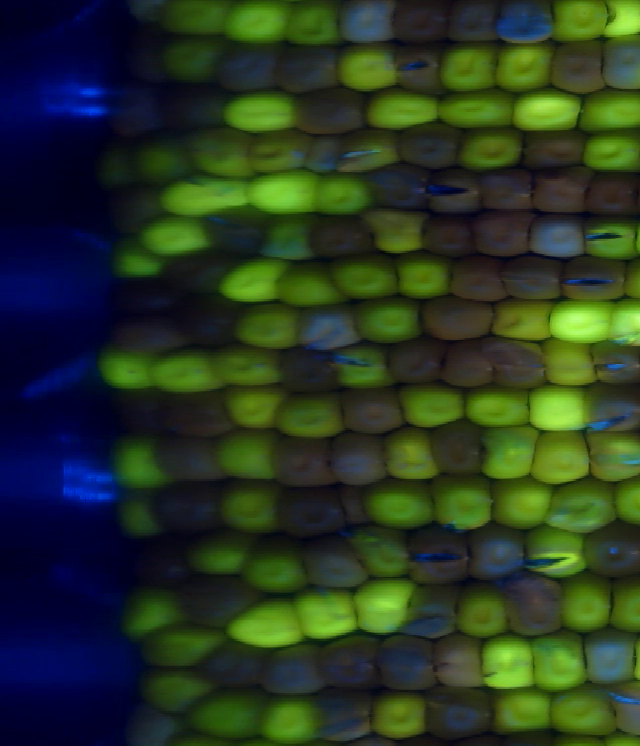fluorescent: (226, 596, 308, 647), (136, 663, 221, 712), (362, 479, 439, 531), (528, 630, 592, 691), (292, 587, 367, 639), (433, 474, 498, 533), (546, 478, 617, 532), (345, 523, 413, 579), (184, 689, 266, 735), (475, 633, 542, 689), (219, 479, 284, 536), (190, 126, 258, 180), (351, 580, 414, 638), (550, 685, 623, 735), (347, 296, 427, 341), (328, 253, 403, 301), (247, 534, 308, 593), (215, 428, 281, 482), (557, 573, 613, 636), (363, 85, 443, 129), (523, 523, 590, 575), (218, 253, 285, 305), (232, 302, 307, 348), (394, 382, 471, 426), (457, 122, 526, 171), (489, 475, 554, 527), (138, 625, 229, 662), (245, 171, 323, 214), (478, 424, 539, 478), (488, 685, 558, 732), (392, 247, 454, 300), (277, 260, 346, 307), (138, 216, 219, 256), (160, 178, 247, 215), (120, 589, 187, 637), (437, 89, 517, 129), (337, 41, 401, 91), (276, 394, 350, 437), (546, 296, 615, 342), (149, 349, 222, 392), (457, 583, 514, 638), (222, 92, 296, 134), (337, 128, 406, 173), (438, 44, 502, 92), (114, 433, 166, 491), (531, 431, 587, 484), (513, 89, 585, 130), (249, 127, 310, 175), (379, 431, 438, 480), (223, 1, 289, 44), (368, 208, 428, 255), (580, 127, 640, 174), (491, 295, 555, 339), (496, 43, 557, 89), (465, 385, 533, 426), (579, 212, 637, 260), (525, 386, 588, 430), (222, 381, 282, 427), (157, 1, 233, 37), (283, 1, 340, 48), (333, 343, 391, 389), (183, 533, 251, 572), (215, 345, 283, 384), (541, 339, 598, 385), (315, 170, 373, 215), (371, 691, 430, 734), (162, 40, 221, 83), (135, 143, 198, 183), (99, 345, 157, 388), (264, 696, 319, 741), (110, 238, 170, 279), (580, 89, 640, 130), (87, 142, 136, 190), (553, 1, 607, 43), (117, 496, 165, 539), (609, 572, 640, 632), (609, 297, 640, 345), (603, 1, 640, 36), (169, 729, 233, 746), (557, 733, 615, 746), (598, 729, 640, 746)
nonfluorescent: (178, 574, 262, 627), (501, 571, 567, 635), (270, 431, 341, 489), (416, 295, 502, 342), (484, 334, 550, 394), (177, 294, 245, 352), (213, 41, 285, 95), (289, 85, 370, 133), (549, 35, 612, 96), (150, 481, 228, 530), (406, 527, 469, 586), (157, 80, 231, 130), (160, 391, 240, 437), (559, 253, 628, 305), (199, 639, 268, 691), (261, 642, 327, 696), (502, 253, 570, 305), (397, 119, 466, 170), (303, 534, 368, 588), (274, 44, 341, 96), (469, 520, 529, 578), (403, 580, 463, 638), (422, 686, 494, 734), (153, 435, 228, 480), (116, 25, 171, 86), (281, 488, 352, 535), (321, 639, 386, 690), (427, 418, 484, 476), (431, 633, 490, 689), (380, 635, 440, 690), (310, 211, 381, 257), (581, 629, 640, 684), (277, 348, 344, 396), (338, 388, 410, 432), (448, 254, 511, 304), (397, 41, 452, 98), (531, 165, 589, 219), (111, 314, 190, 353), (317, 685, 373, 740), (330, 434, 390, 485), (474, 209, 535, 259), (389, 339, 455, 385), (585, 521, 640, 576), (204, 211, 271, 256), (167, 251, 235, 295), (420, 212, 482, 260), (134, 539, 194, 588), (112, 276, 185, 316), (107, 82, 161, 136), (370, 165, 433, 211), (583, 383, 640, 433), (479, 165, 535, 215), (525, 214, 590, 257), (495, 1, 560, 44), (334, 1, 397, 45), (390, 1, 454, 44), (427, 167, 484, 214), (585, 170, 640, 218), (515, 129, 588, 165), (444, 338, 494, 390), (106, 184, 162, 230), (447, 1, 505, 44), (116, 389, 166, 438), (589, 340, 640, 388), (120, 702, 179, 743), (609, 677, 640, 735), (340, 485, 375, 529), (498, 730, 559, 745)
